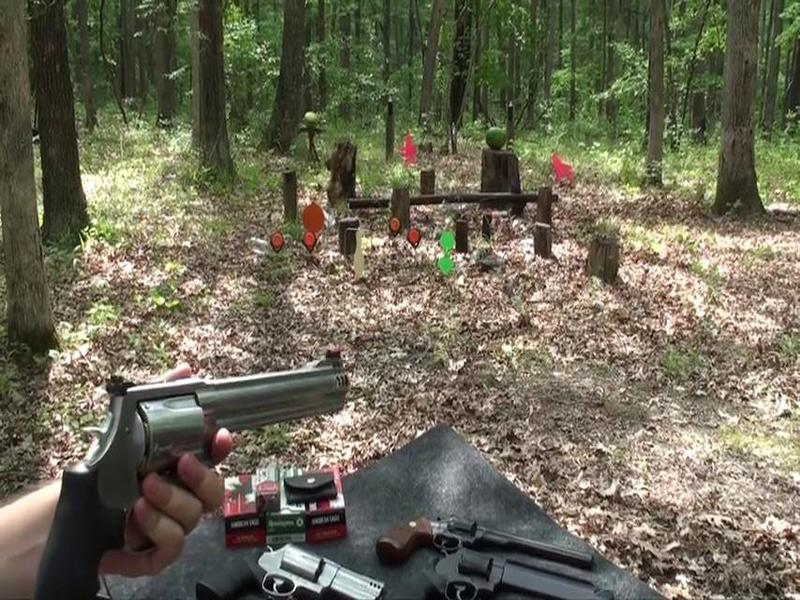Revolver: (35, 322, 362, 600)
